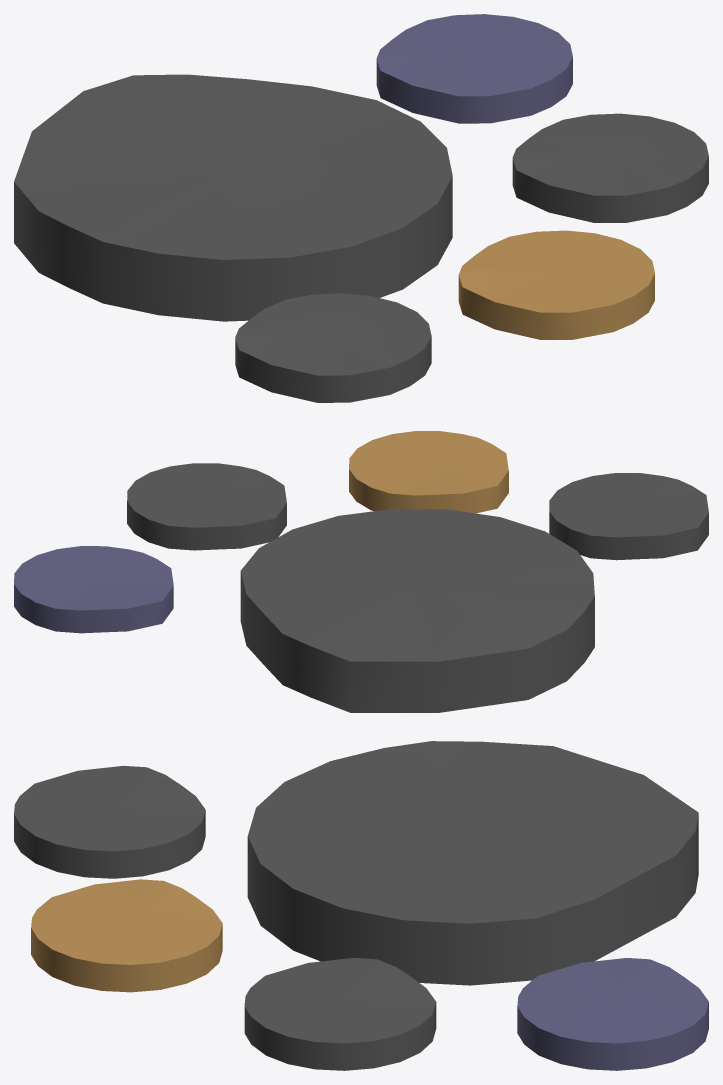
File: deco_patte.fbx
3 views of the same model, one above another, from view 1: azimuth 30°, elevation 25°; view 2: azimuth 150°, elevation 25°; view 3: azimuth 270°, elevation 25° (orthographic). The views are drawn at different scales.
Parts seen in each view (by area): view 1: pCylinder1, pasted__pCylinder1, pasted__pasted__pasted__pasted__pCylinder1, pasted__pasted__pCylinder1, pasted__pasted__pasted__pCylinder1; view 2: pCylinder1, pasted__pasted__pCylinder1, pasted__pCylinder1, pasted__pasted__pasted__pasted__pCylinder1, pasted__pasted__pasted__pCylinder1; view 3: pCylinder1, pasted__pasted__pCylinder1, pasted__pasted__pasted__pCylinder1, pasted__pasted__pasted__pasted__pCylinder1, pasted__pCylinder1.
Boxes of the visible parts, x1,y1,x2,y2 form: pCylinder1: [14, 74, 452, 321]; pasted__pCylinder1: [376, 14, 572, 123]; pasted__pasted__pasted__pasted__pCylinder1: [235, 293, 431, 402]; pasted__pasted__pCylinder1: [512, 113, 708, 222]; pasted__pasted__pasted__pCylinder1: [458, 230, 654, 339]; pCylinder1: [240, 509, 594, 712]; pasted__pasted__pCylinder1: [127, 463, 286, 550]; pasted__pCylinder1: [14, 546, 173, 633]; pasted__pasted__pasted__pasted__pCylinder1: [549, 473, 708, 560]; pasted__pasted__pasted__pCylinder1: [349, 431, 508, 513]; pCylinder1: [247, 741, 698, 985]; pasted__pasted__pCylinder1: [244, 958, 436, 1070]; pasted__pasted__pasted__pCylinder1: [31, 879, 222, 992]; pasted__pasted__pasted__pasted__pCylinder1: [14, 765, 205, 878]; pasted__pCylinder1: [517, 958, 708, 1070].
Bounding box in the file's own units: 3.91 × 0.4493 × 4.
